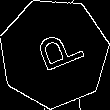P_W: (24, 26, 84, 79)
